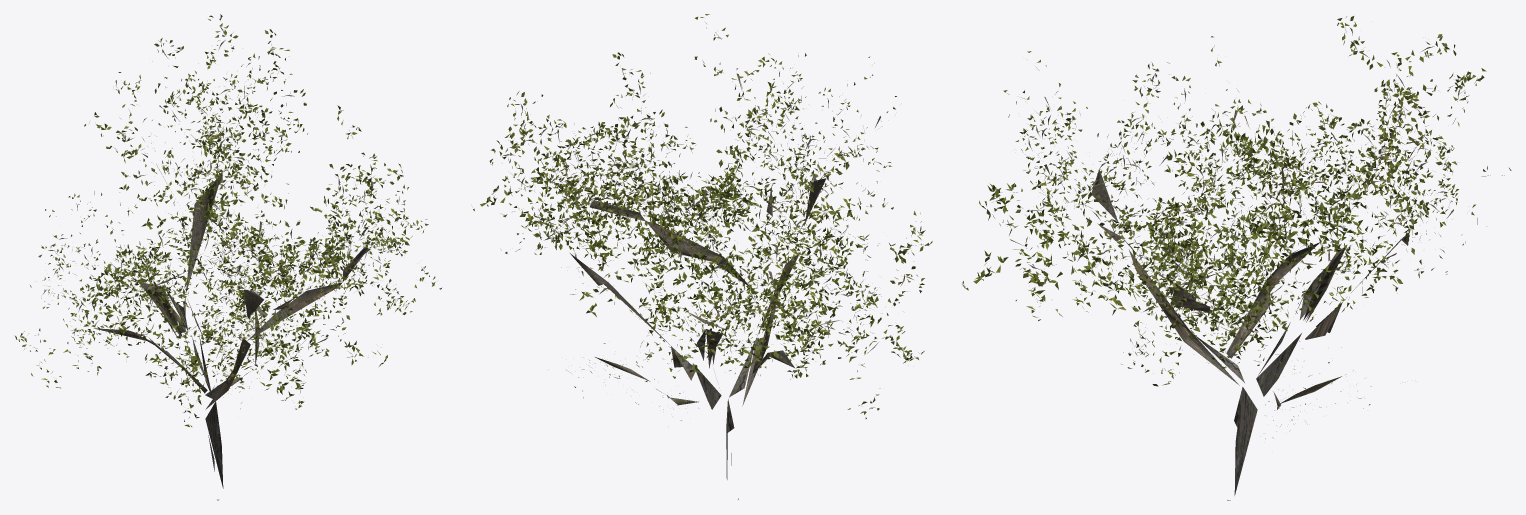
Rendered from reference-public_models_vegetation_broadleaf-low.glb.
3 views of the same model, side by side, from view 1: azimuth 30°, elevation 25°; view 2: azimuth 150°, elevation 25°; view 3: azimuth 270°, elevation 25° (orthographic). The views are drawn at different scales.
Parts seen in each view (by area): view 1: Crown_mobile; view 2: Crown_mobile; view 3: Crown_mobile.
Boxes of the visible parts, x1,y1,x2,y2 form: Crown_mobile: (14,14,441,500); Crown_mobile: (473,14,932,500); Crown_mobile: (962,16,1511,500).
Bounding box in the file's own units: 4.75 × 5.03 × 4.82.
3 materials, 3 textured.
